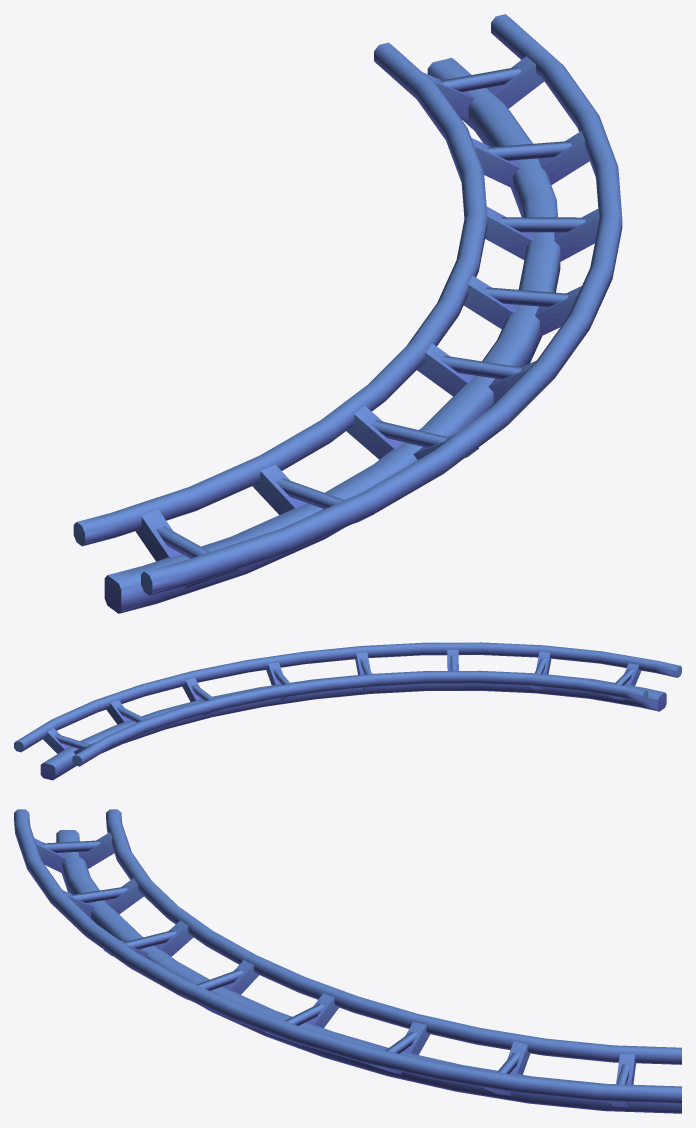
File: coaster-steel-corner-large.glb
The picture shows the model from 3 angles, top to bottom: view 1: azimuth 30°, elevation 25°; view 2: azimuth 150°, elevation 25°; view 3: azimuth 270°, elevation 25°; orthographic projection. The views are drawn at different scales.
Visible parts, largest first — view 1: coaster-steel-corner-large; view 2: coaster-steel-corner-large; view 3: coaster-steel-corner-large.
Part boxes in pixels (x1=…): coaster-steel-corner-large: x1=73, y1=14, x2=622, y2=613; coaster-steel-corner-large: x1=14, y1=642, x2=681, y2=780; coaster-steel-corner-large: x1=14, y1=809, x2=681, y2=1113.
Size of the model in its own units: 13.05 by 0.9 by 13.05.
1 material, 1 textured.
